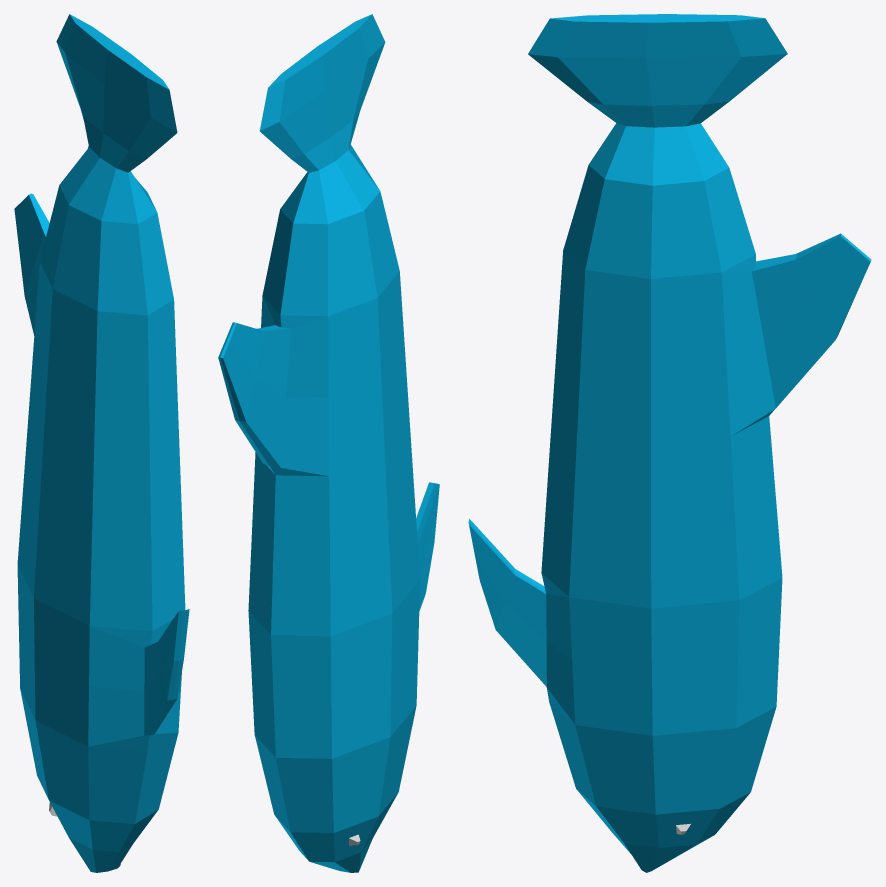
File: Anchovy 3.fbx
3 views of the same model, side by side, from view 1: azimuth 30°, elevation 25°; view 2: azimuth 150°, elevation 25°; view 3: azimuth 270°, elevation 25° (orthographic). The views are drawn at different scales.
Parts seen in each view (by area): view 1: Circle; view 2: Circle; view 3: Circle.
Part boxes in pixels (box(x1,y1,x2,y2)): Circle: box(14, 14, 189, 872); Circle: box(218, 14, 439, 872); Circle: box(468, 14, 871, 872).
Size of the model in its own units: 64.02 by 396 by 169.
